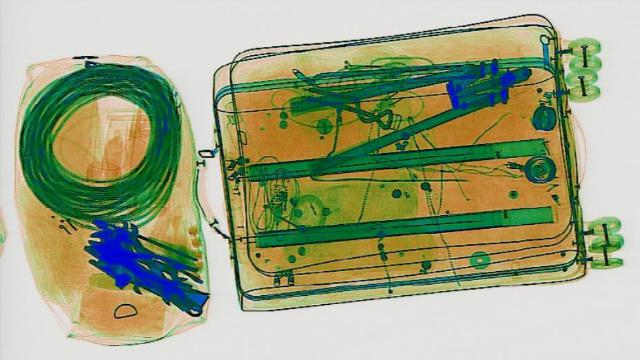Pliers: (74, 227, 200, 286)
Wrench: (77, 226, 213, 317)
